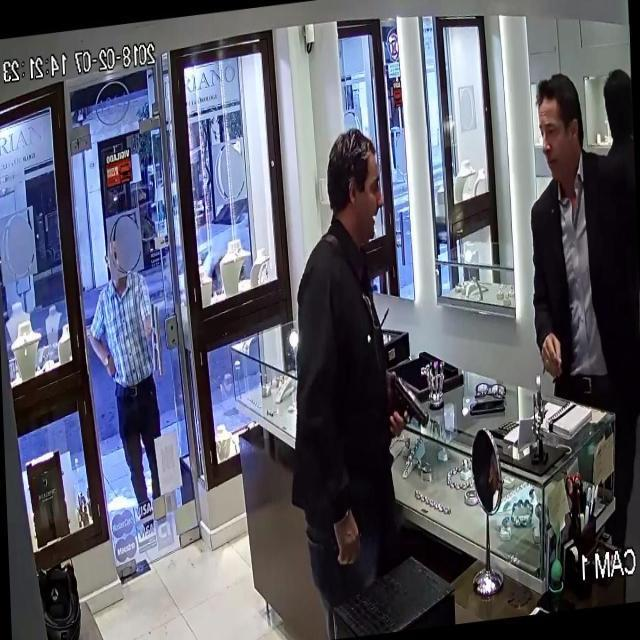pistol: (384, 362, 431, 442)
